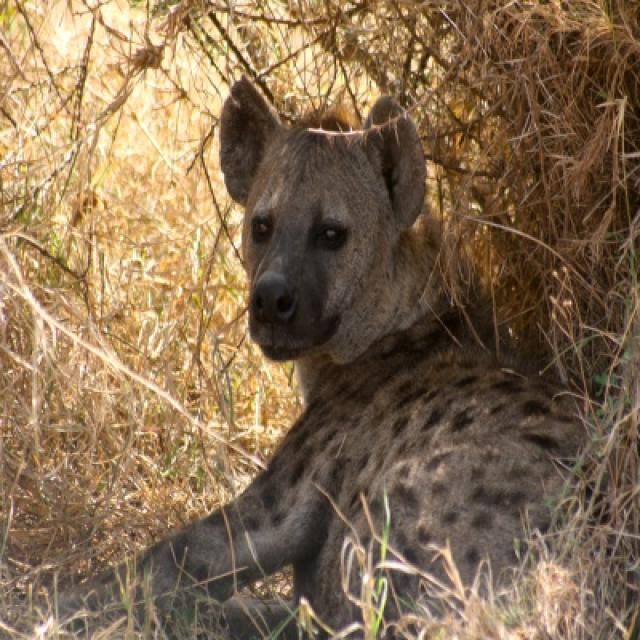hyena: (25, 78, 638, 638)
